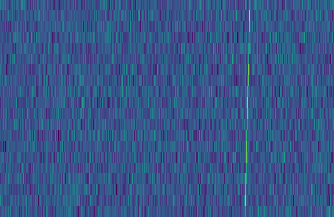signal: (241, 0, 255, 217)
